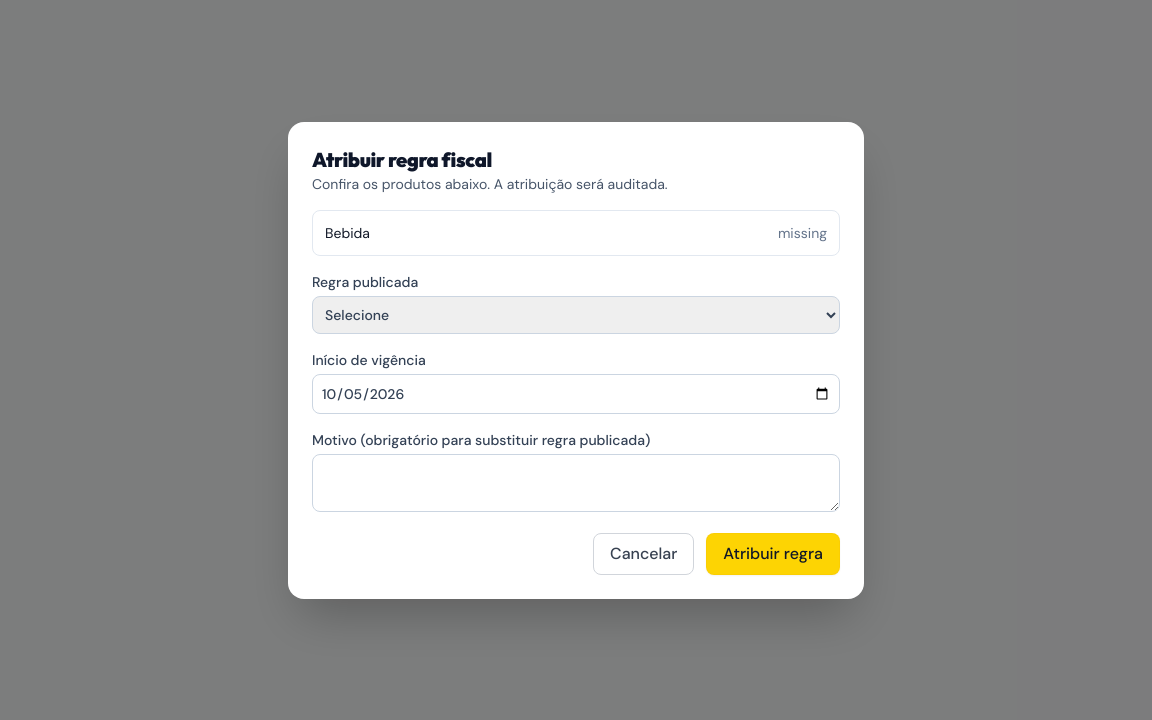
Test case: product tax assignment › previews explicit products and requires a reason before replacing a published rule
This screenshot has width=1152, height=720.
Check: the text "Bebida" is shown, box [325,222,370,242]
Select "Regra publicada" in the dropdown labelled "Regra publicada". click: (576, 314)
box: [312,296,840,334]
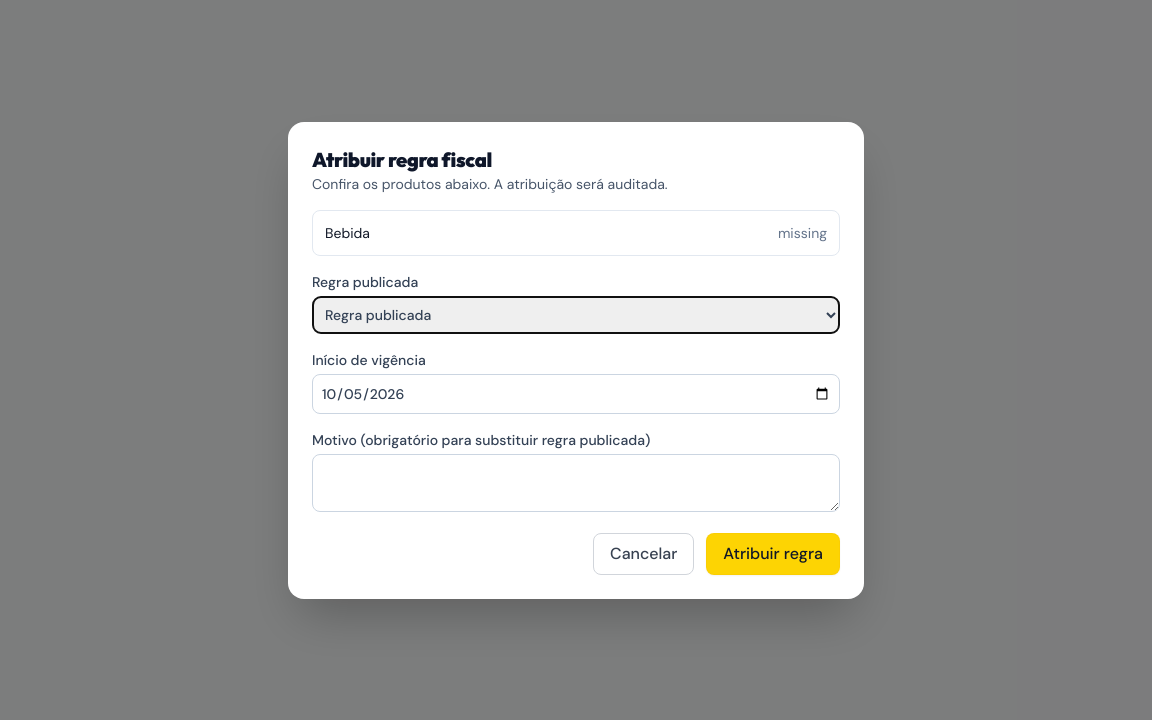
Click the button "Atribuir regra". click: (773, 554)
box: [706,532,840,574]
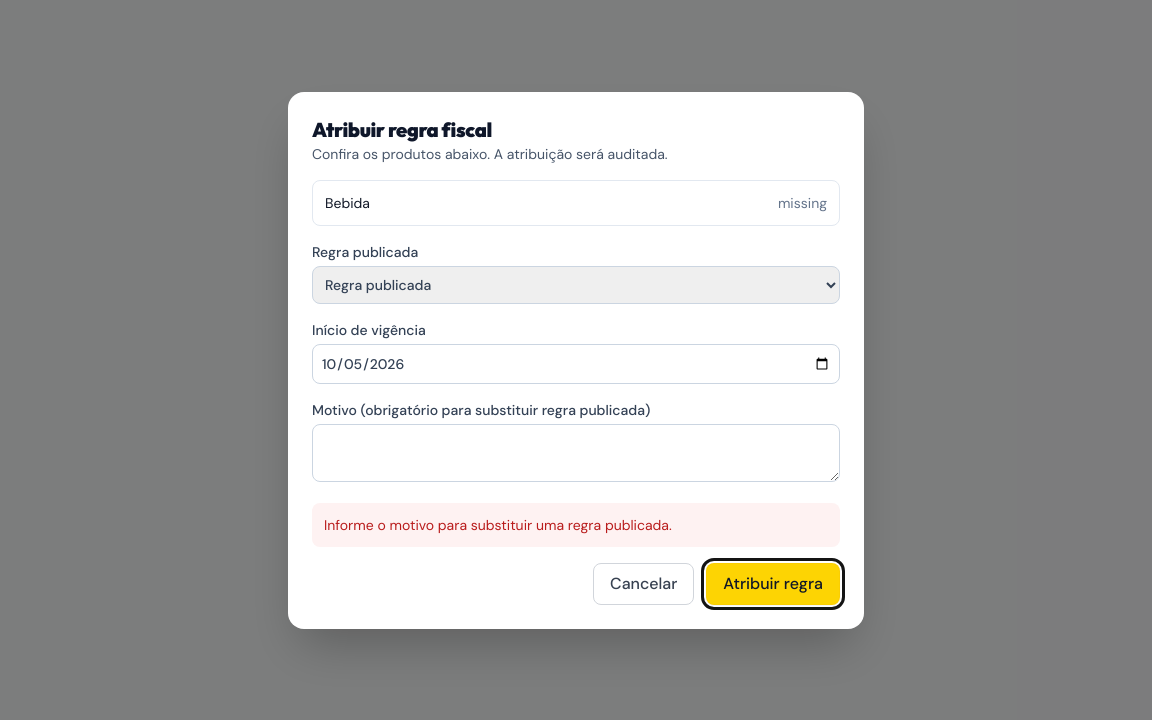
Check: the text "Informe o motivo para substituir uma regra publicada." is shown, box [312,502,840,546]
